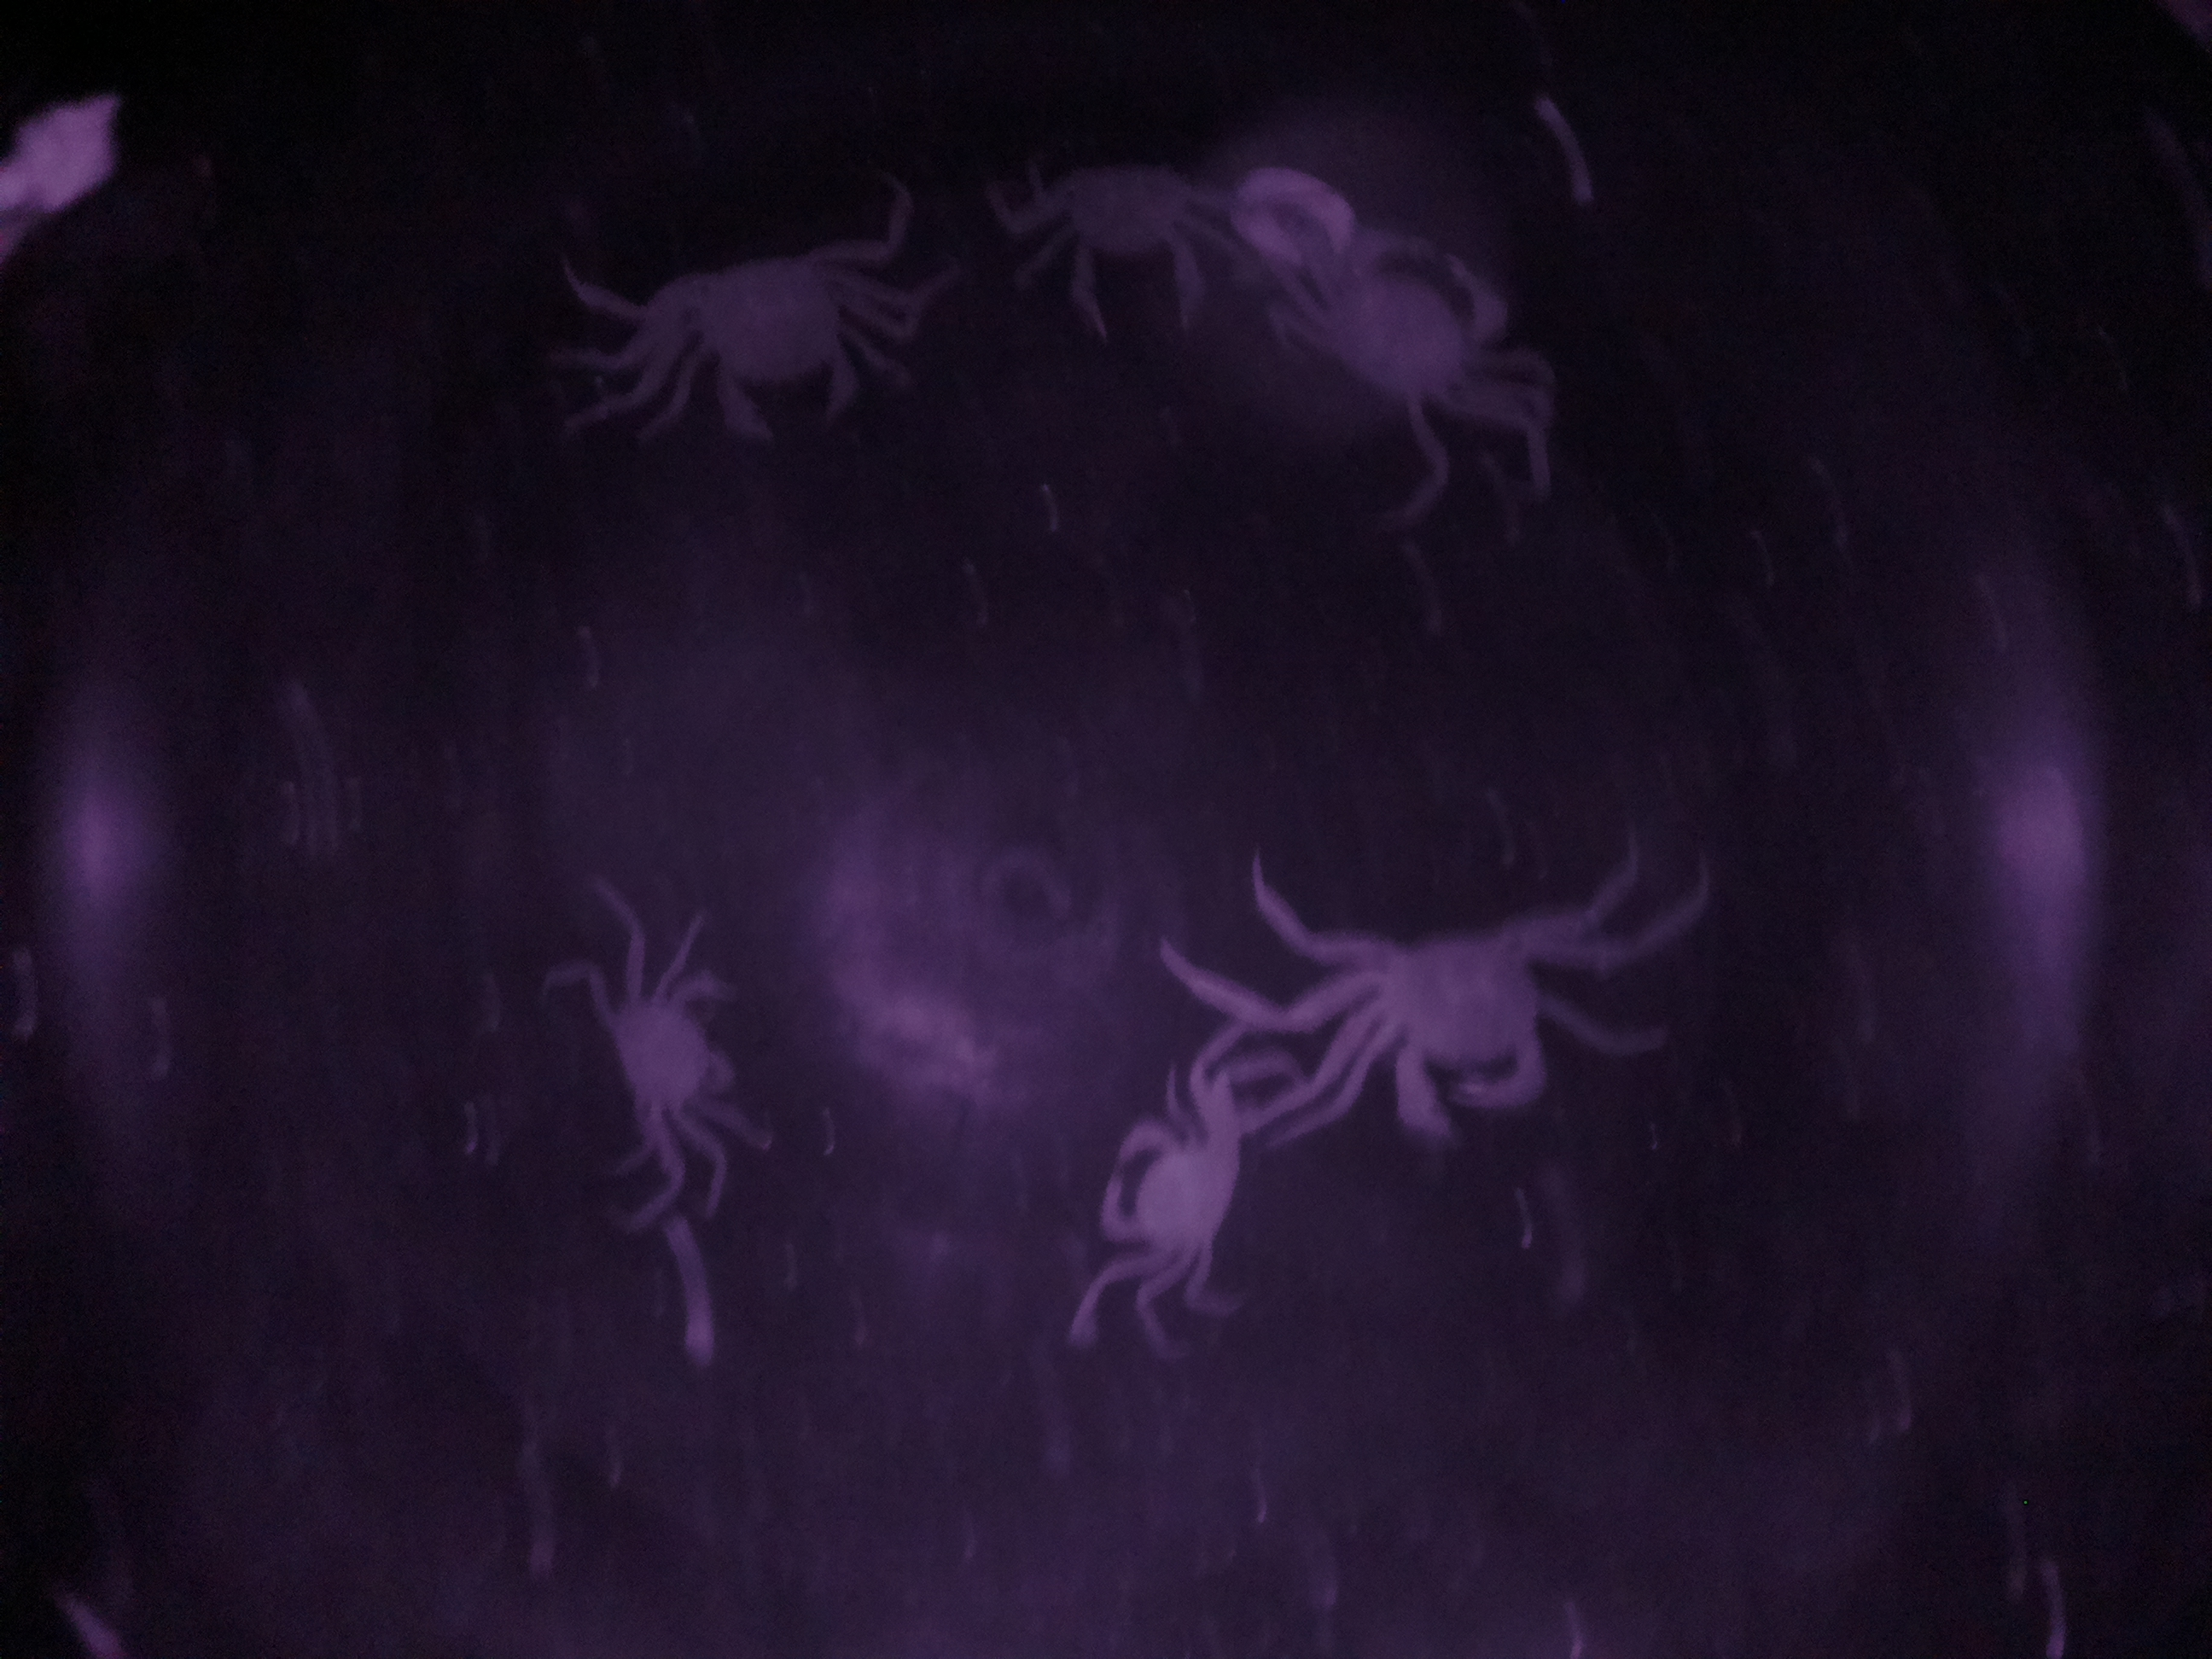Crab: (1305, 908, 1629, 1166), (571, 925, 759, 1161), (1080, 1061, 1273, 1288)
